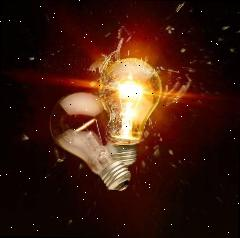lightbulb: (48, 91, 134, 192), (96, 57, 162, 145)
